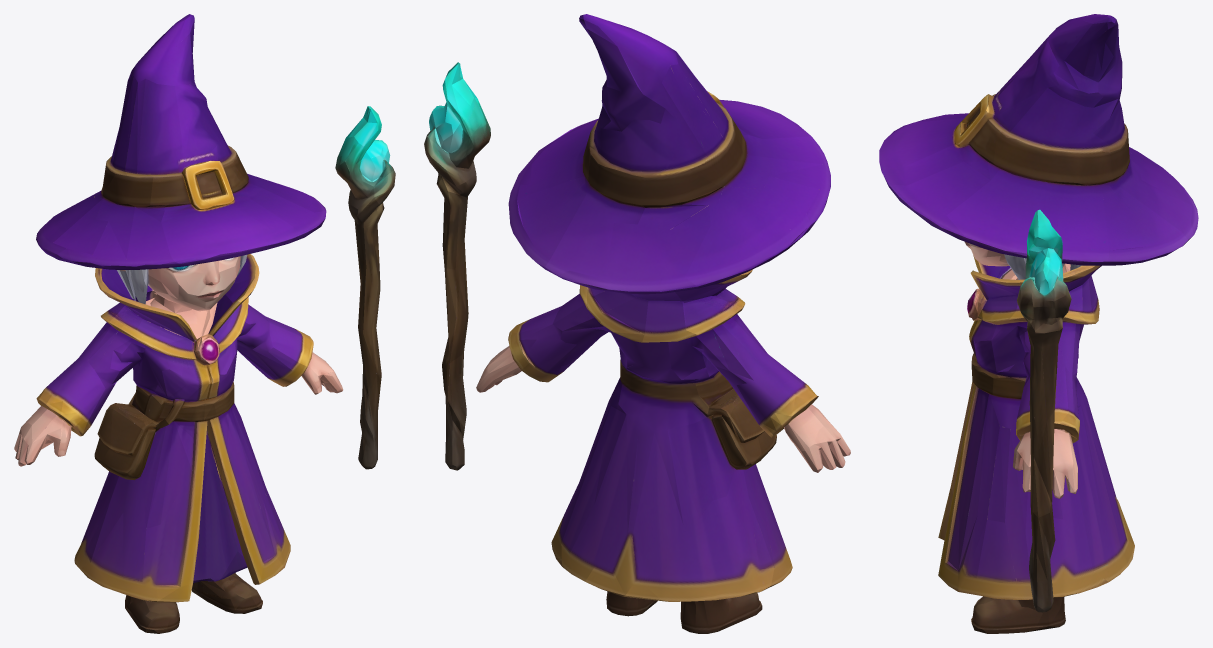
File: Hero_Mage.fbx
3 views of the same model, side by side, from view 1: azimuth 30°, elevation 25°; view 2: azimuth 150°, elevation 25°; view 3: azimuth 270°, elevation 25° (orthographic). The views are drawn at different scales.
Parts seen in each view (by area): view 1: output_unwrapped; view 2: output_unwrapped; view 3: output_unwrapped.
Part boxes in pixels (box(x1,y1,x2,y2)): output_unwrapped: box(14, 14, 395, 633); output_unwrapped: box(424, 14, 850, 633); output_unwrapped: box(879, 14, 1198, 633).
Bounding box in the file's own units: 134 × 190 × 90.43.
1 material, 1 textured.
